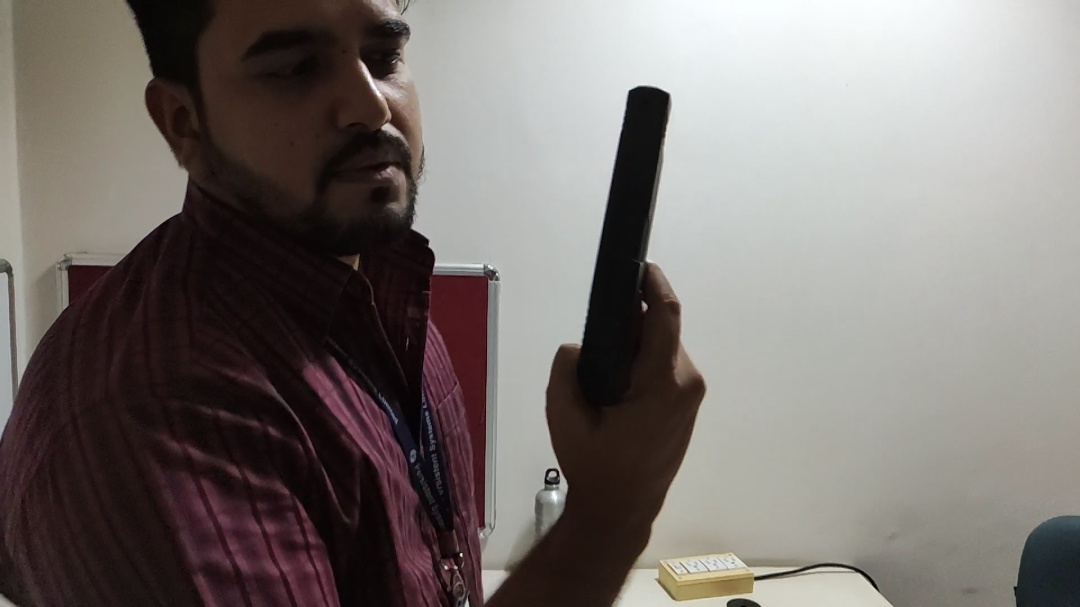gun: (563, 72, 691, 395)
